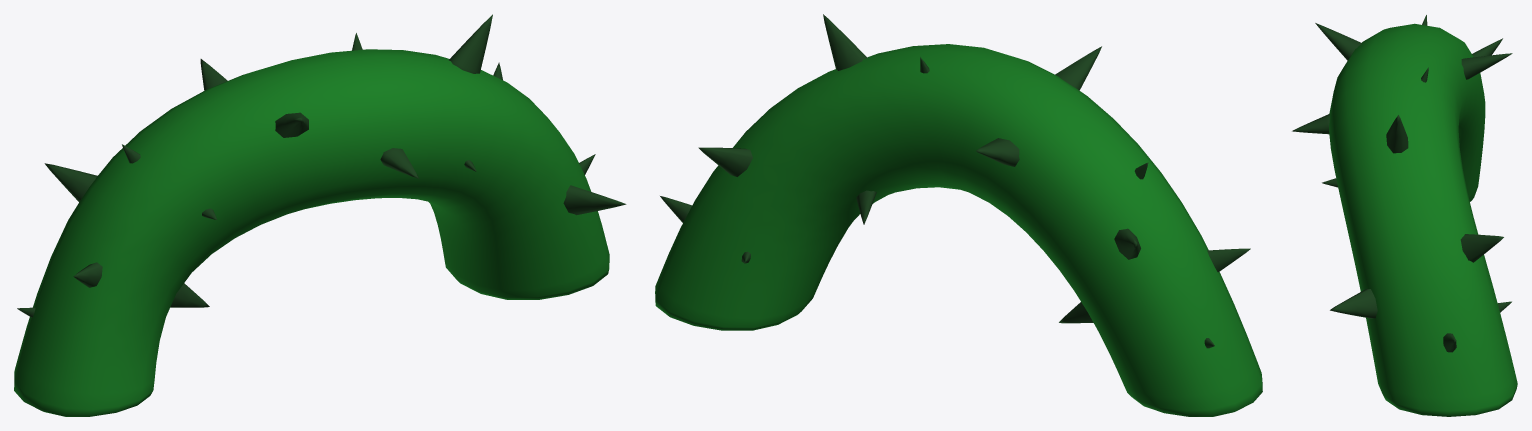
File: Vine_3.fbx
The picture shows the model from 3 angles, left to right: view 1: azimuth 30°, elevation 25°; view 2: azimuth 150°, elevation 25°; view 3: azimuth 270°, elevation 25°; orthographic projection. The views are drawn at different scales.
Visible parts, largest first — view 1: Vine_3; view 2: Vine_3; view 3: Vine_3.
Boxes of the visible parts, bbox=[...] form: Vine_3: bbox=[14, 14, 626, 416]; Vine_3: bbox=[655, 14, 1262, 416]; Vine_3: bbox=[1292, 15, 1517, 416].
Size of the model in its own units: 753 by 354 by 291.
